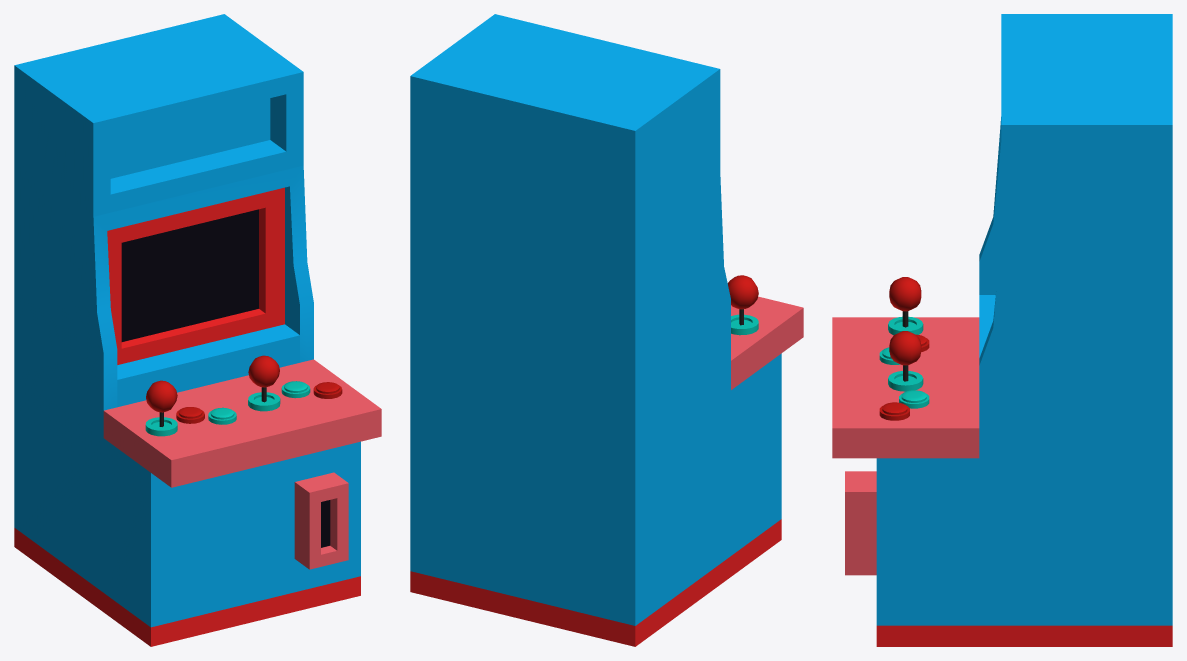
Rendered from Game_machine.fbx.
3 views of the same model, side by side, from view 1: azimuth 30°, elevation 25°; view 2: azimuth 150°, elevation 25°; view 3: azimuth 270°, elevation 25° (orthographic). The views are drawn at different scales.
Visible parts, largest first — view 1: Cube.002; view 2: Cube.002; view 3: Cube.002.
Boxes of the visible parts, x1,y1,x2,y2 form: Cube.002: (14,14,381,646); Cube.002: (410,14,803,646); Cube.002: (832,14,1172,646).
Bounding box in the file's own units: 123 × 160 × 270.
